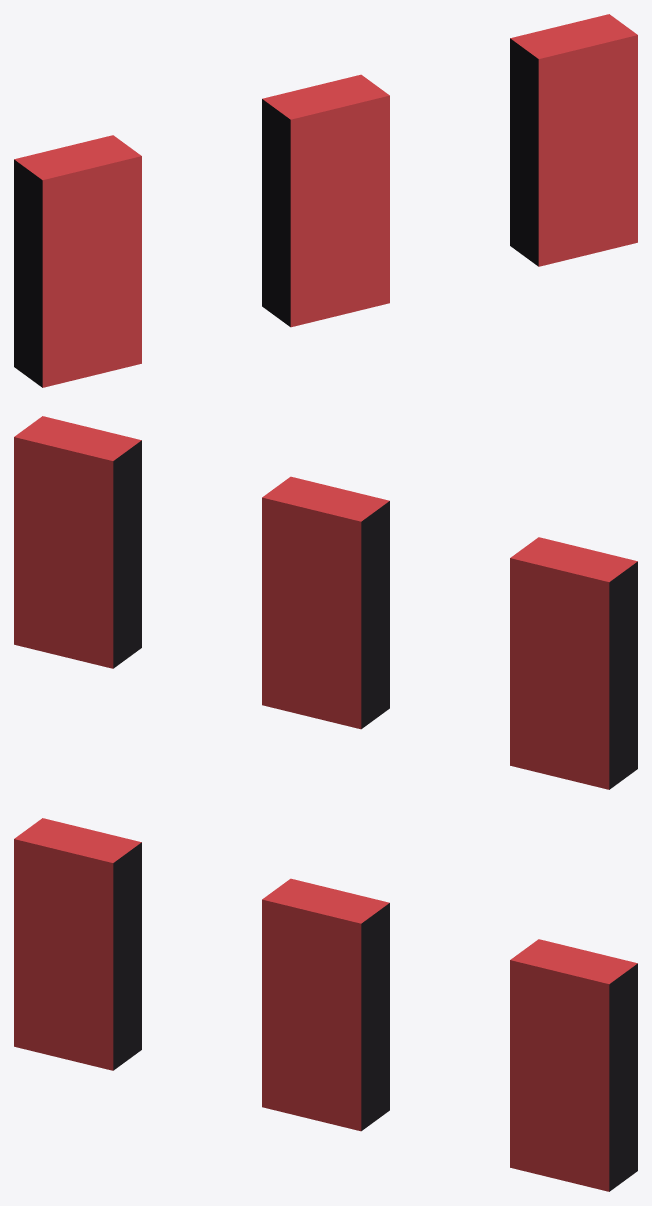
The model's file is martyr_Bombs.glb.
3 renders of one model, top to bottom at view 1: azimuth 30°, elevation 25°; view 2: azimuth 150°, elevation 25°; view 3: azimuth 330°, elevation 25°, orthographic.
Visible parts, largest first — view 1: martyr_Bombs; view 2: martyr_Bombs; view 3: martyr_Bombs.
Part boxes in pixels (x1,y1,x2,y2): martyr_Bombs: (14,14,637,387); martyr_Bombs: (14,416,637,789); martyr_Bombs: (14,818,637,1191).
Size of the model in its own units: 1.5 by 0.5 by 0.125.
1 material, 1 textured.
